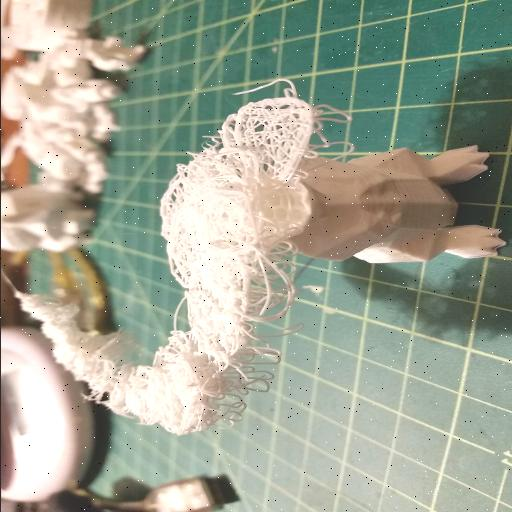spaghetti: (184, 106, 334, 334)
